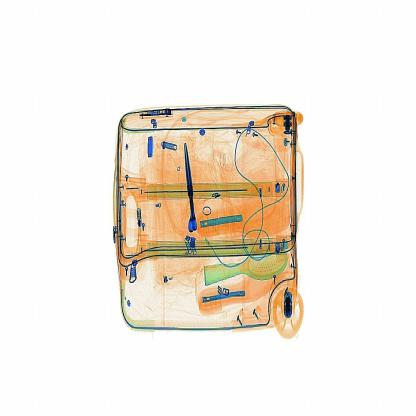gun: (176, 140, 205, 252)
